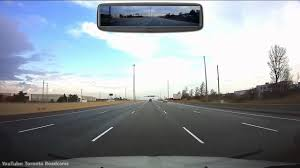strada: (46, 103, 280, 153)
